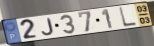1: (101, 8, 115, 30)
2: (18, 18, 41, 42)
3: (60, 14, 76, 35)
7: (77, 10, 94, 33)
J: (41, 17, 55, 36)
L: (118, 6, 138, 28)
